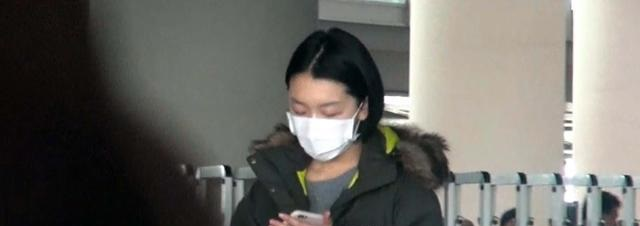face_mask: (287, 77, 356, 163)
